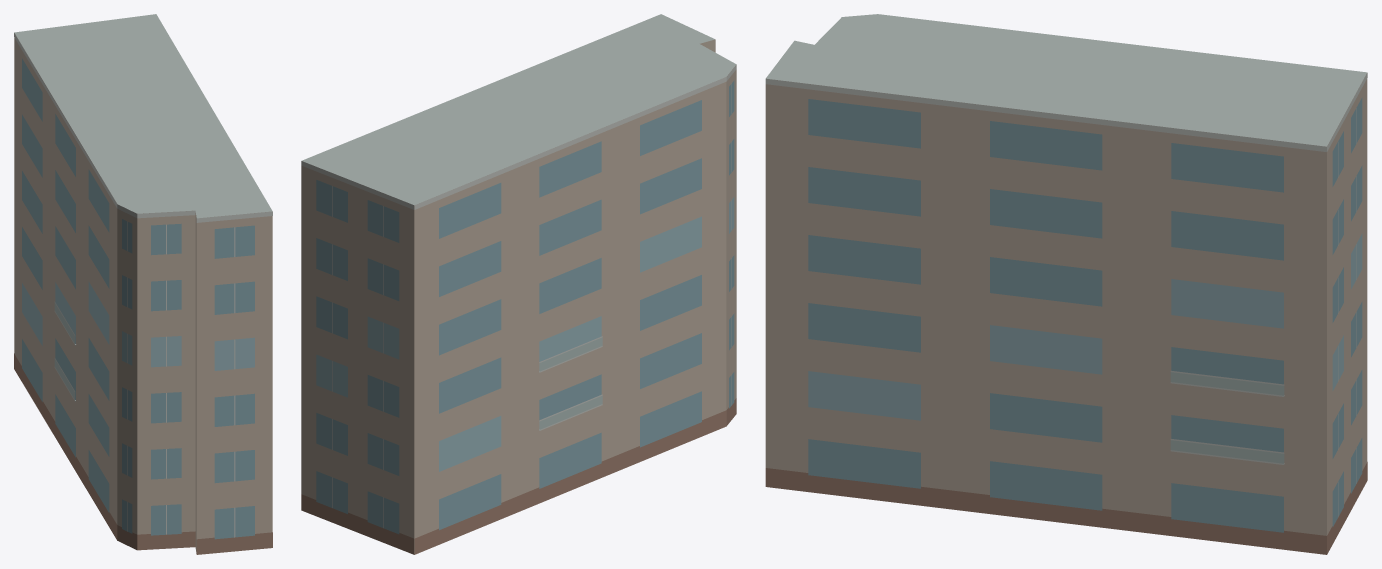
The model's file is survey-upis-33006018.glb.
3 views of the same model, side by side, from view 1: azimuth 30°, elevation 25°; view 2: azimuth 150°, elevation 25°; view 3: azimuth 270°, elevation 25° (orthographic). The views are drawn at different scales.
Parts seen in each view (by area): view 1: survey-upis-33006018.tmp; view 2: survey-upis-33006018.tmp; view 3: survey-upis-33006018.tmp.
Boxes of the visible parts, x1=… form: survey-upis-33006018.tmp: x1=14, y1=14, x2=272, y2=554; survey-upis-33006018.tmp: x1=301, y1=14, x2=736, y2=554; survey-upis-33006018.tmp: x1=765, y1=14, x2=1367, y2=554.
Size of the model in its own units: 12.55 by 18 by 24.06.
